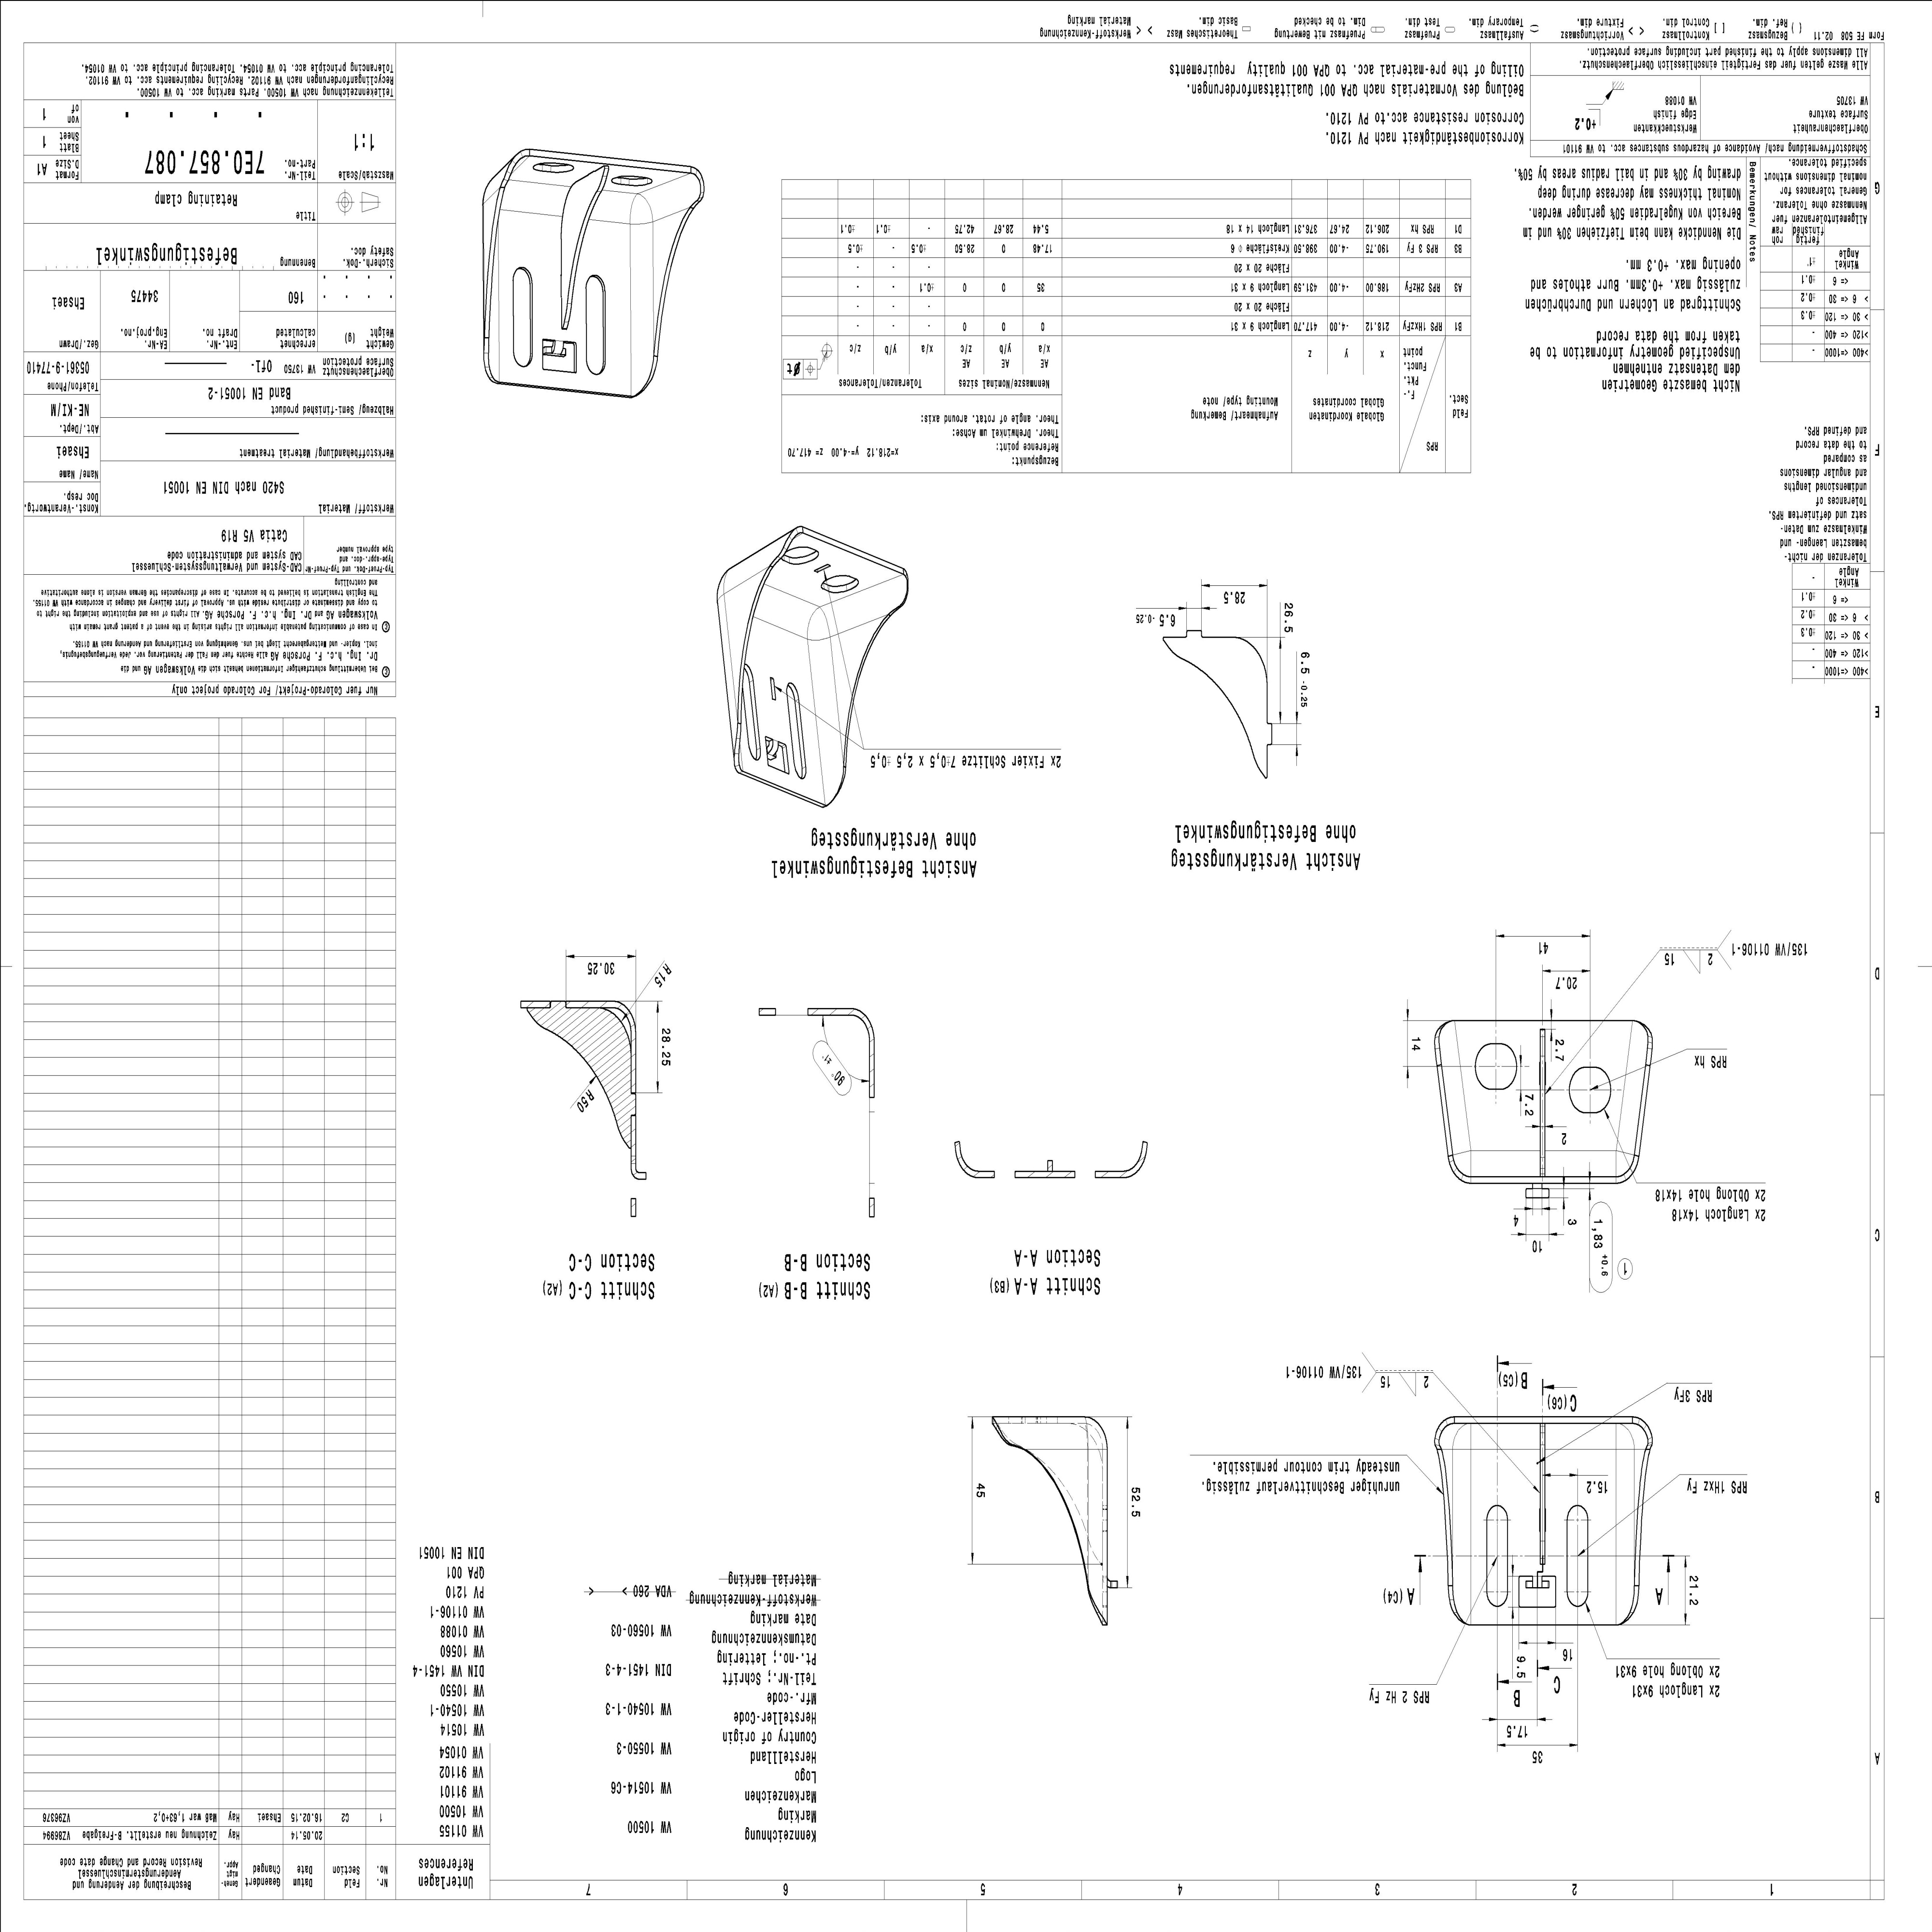BendingEdge: (805, 635, 851, 807), (816, 570, 920, 639), (628, 221, 655, 400), (637, 168, 709, 226), (750, 582, 823, 640), (1451, 1445, 1472, 1626), (1615, 1447, 1637, 1628), (497, 177, 573, 219), (1545, 1421, 1619, 1451), (1470, 1421, 1541, 1451), (587, 188, 637, 225)
BoxCorner: (626, 193, 655, 226), (805, 605, 832, 640), (1614, 1148, 1637, 1180), (1451, 1148, 1474, 1178), (1614, 1422, 1637, 1451), (1451, 1421, 1472, 1451)
InnerContour: (510, 264, 536, 370), (582, 271, 609, 375), (1562, 1504, 1589, 1608), (1484, 1502, 1509, 1610), (784, 679, 809, 780), (738, 662, 763, 761), (1472, 1042, 1518, 1092), (1569, 1065, 1612, 1116), (819, 571, 862, 596), (780, 545, 821, 566), (533, 157, 577, 177), (610, 172, 655, 188), (768, 676, 778, 702)
